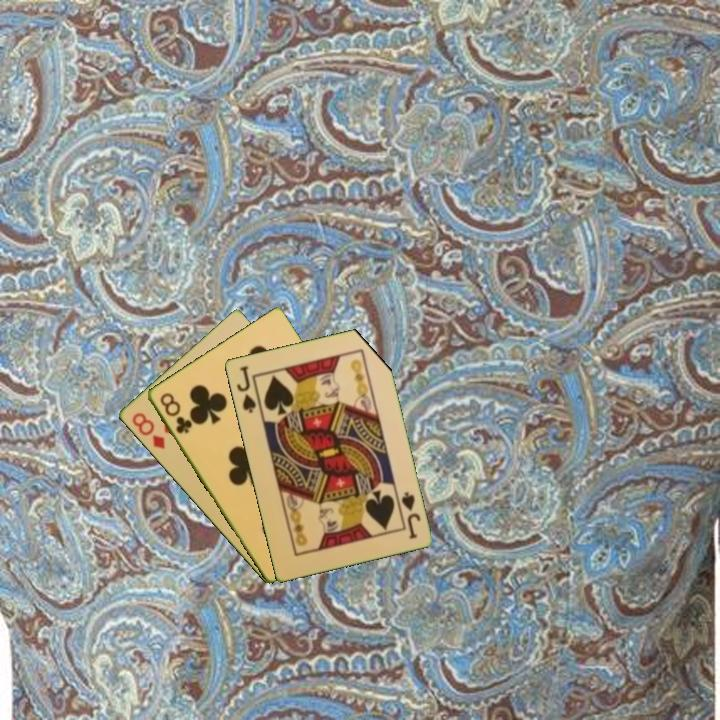8c: (156, 389, 195, 437)
8d: (128, 409, 168, 452)
Js: (233, 362, 259, 416), (397, 488, 423, 542)
